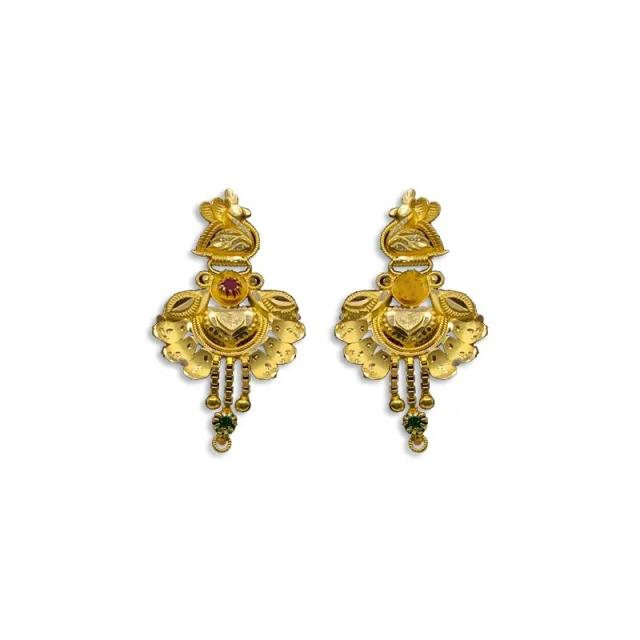missing gem: (402, 278, 417, 293)
